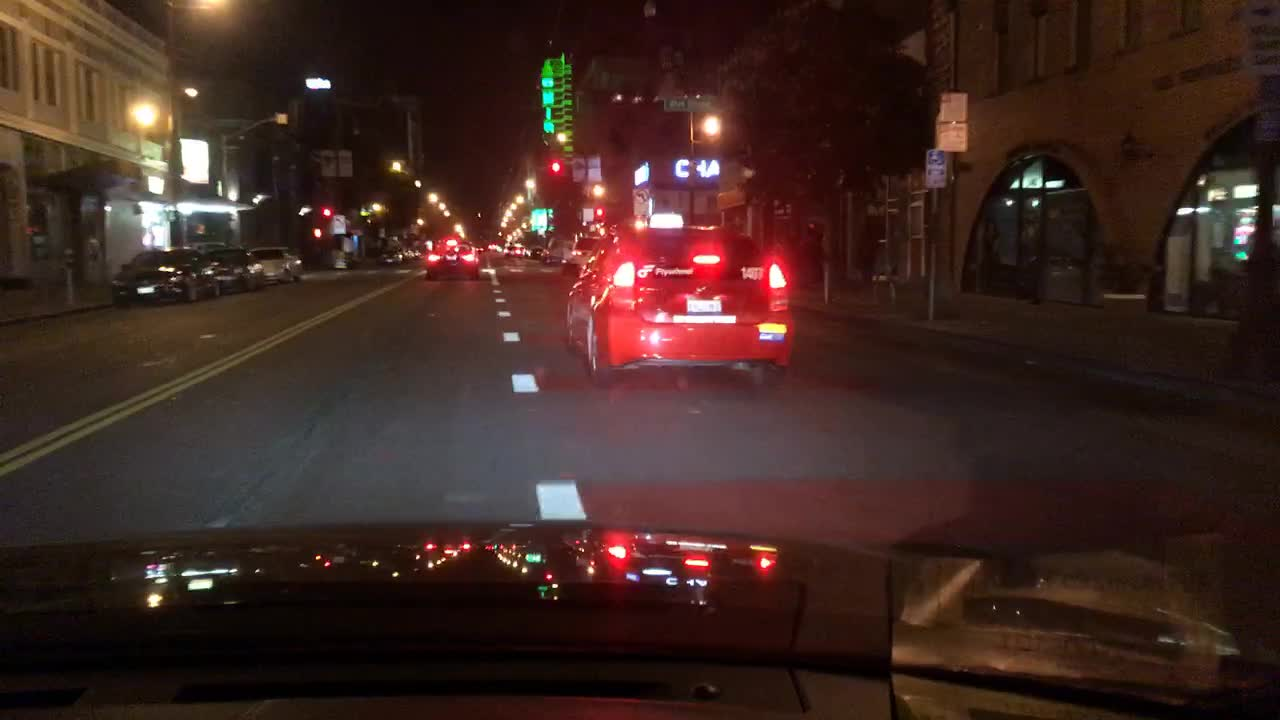car: (561, 225, 797, 386), (112, 250, 219, 301), (209, 249, 268, 291), (421, 239, 480, 279), (254, 245, 301, 281), (571, 235, 603, 272), (541, 240, 576, 263), (379, 247, 403, 264), (504, 244, 524, 259), (527, 247, 546, 260), (403, 247, 414, 258)
person: (1240, 225, 1278, 383)
traffic light: (552, 159, 561, 180), (311, 228, 321, 243), (324, 205, 331, 218), (596, 207, 603, 220)
traffic sign: (935, 93, 969, 150), (925, 149, 948, 187), (665, 97, 719, 111), (321, 150, 351, 174), (631, 188, 648, 212), (331, 217, 345, 230)
